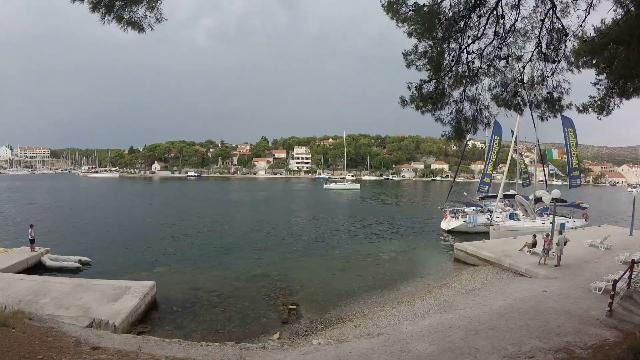Sailboat: (320, 176, 366, 192)
